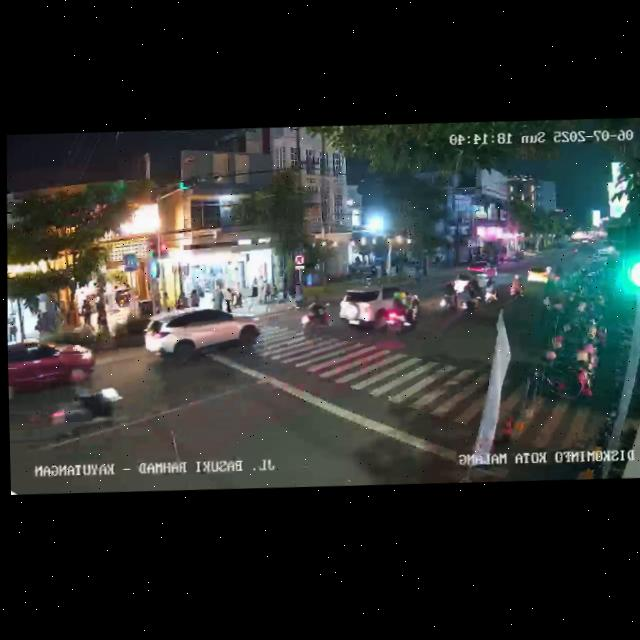car: (138, 302, 260, 369), (8, 335, 96, 406), (336, 282, 419, 337)
motorcycle: (45, 369, 124, 443), (381, 288, 422, 340), (299, 297, 332, 340), (454, 276, 480, 320), (436, 281, 460, 310), (483, 275, 499, 306), (508, 273, 524, 303)
person: (79, 298, 91, 327), (293, 285, 305, 310), (8, 313, 19, 340), (222, 285, 232, 313), (213, 281, 223, 308), (262, 277, 272, 302), (191, 284, 200, 306), (236, 284, 244, 308), (251, 276, 259, 299)
